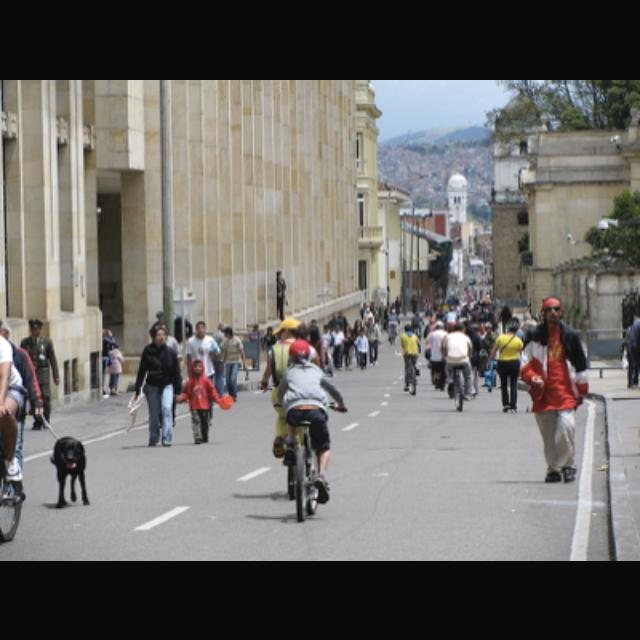With Helmet: (284, 334, 314, 364)
